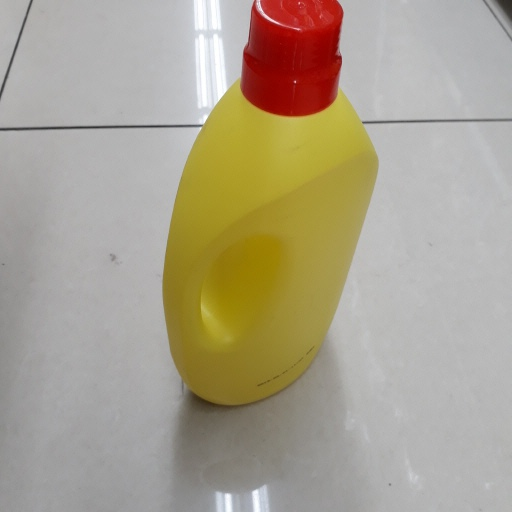Plastic_1: (163, 2, 379, 410)
